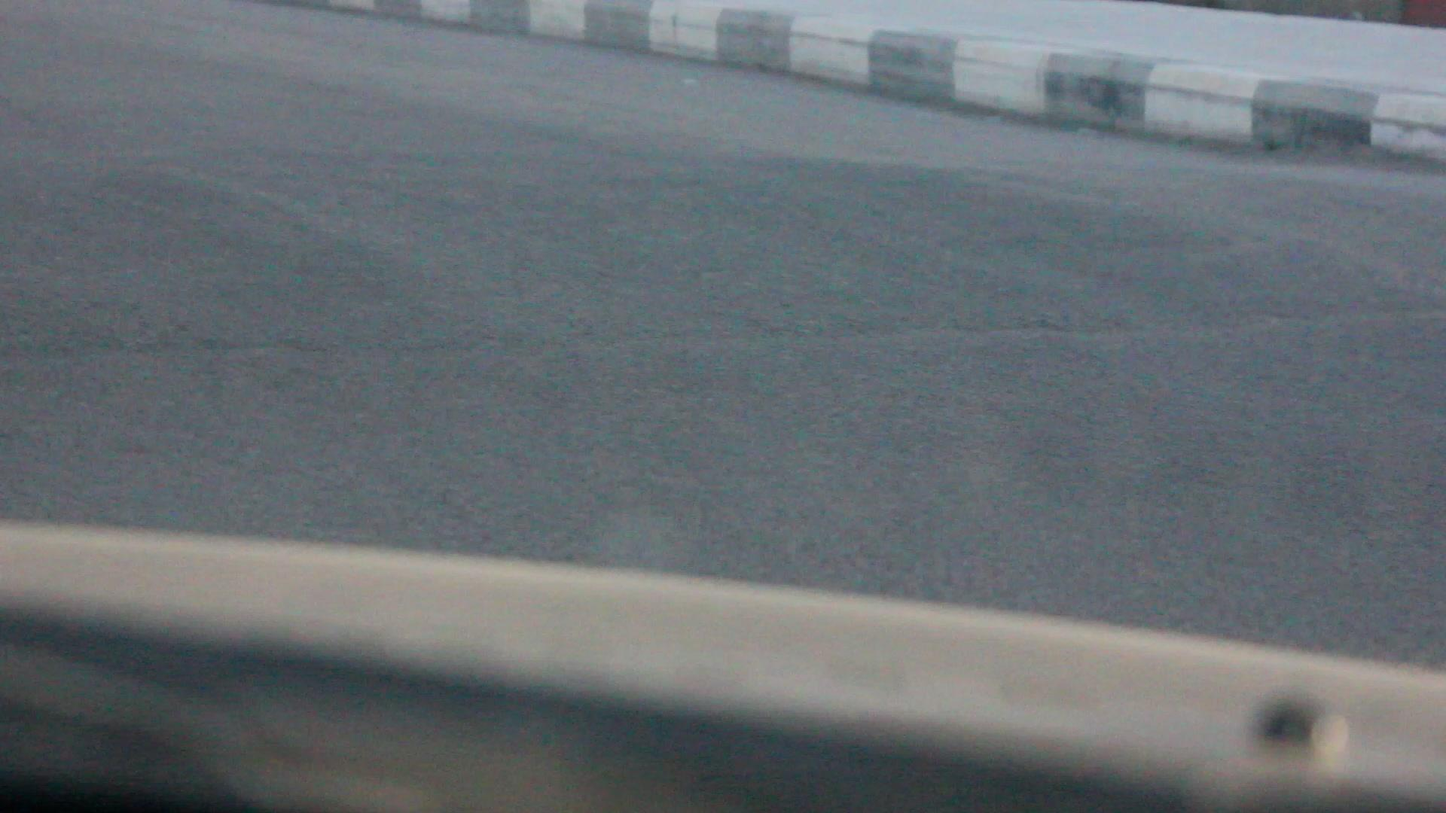Bump: (0, 149, 1446, 352)
